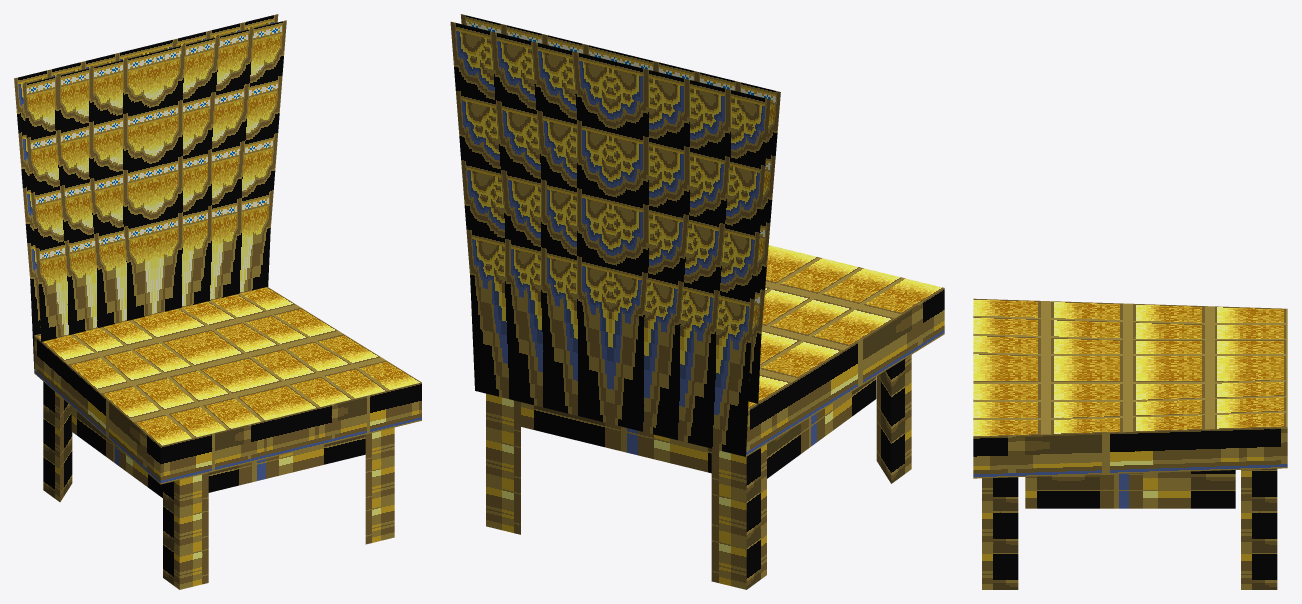
Rendered from 3727kg_ar_isu.gltf.
The picture shows the model from 3 angles, left to right: view 1: azimuth 30°, elevation 25°; view 2: azimuth 150°, elevation 25°; view 3: azimuth 270°, elevation 25°; orthographic projection. The views are drawn at different scales.
Parts seen in each view (by area): view 1: 3727kg_ar_isu; view 2: 3727kg_ar_isu; view 3: 3727kg_ar_isu.
Part boxes in pixels (x1,y1,x2,y2): 3727kg_ar_isu: [14, 14, 421, 589]; 3727kg_ar_isu: [450, 14, 944, 589]; 3727kg_ar_isu: [973, 298, 1287, 589].
Bounding box in the file's own units: 0.7983 × 1.2 × 0.7588.
Materials: 4 (4 with a texture image).
